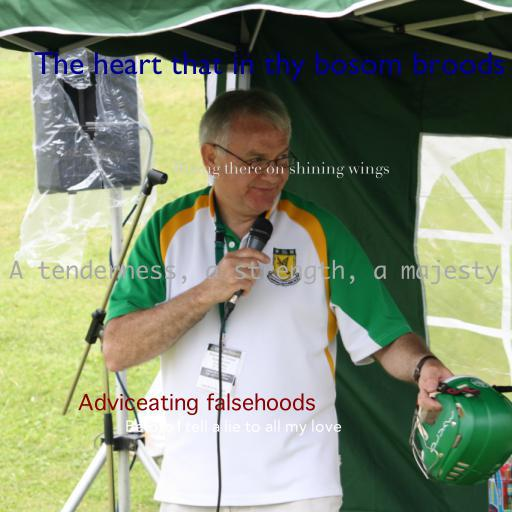Avenir: (124, 419, 342, 436)
Didot: (172, 161, 390, 179)
Geneva: (78, 393, 316, 416)
Gill Sans: (33, 52, 505, 82)
Monaco: (9, 259, 499, 285)
